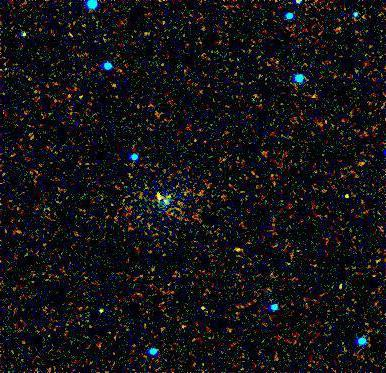star: (143, 183, 173, 213)
